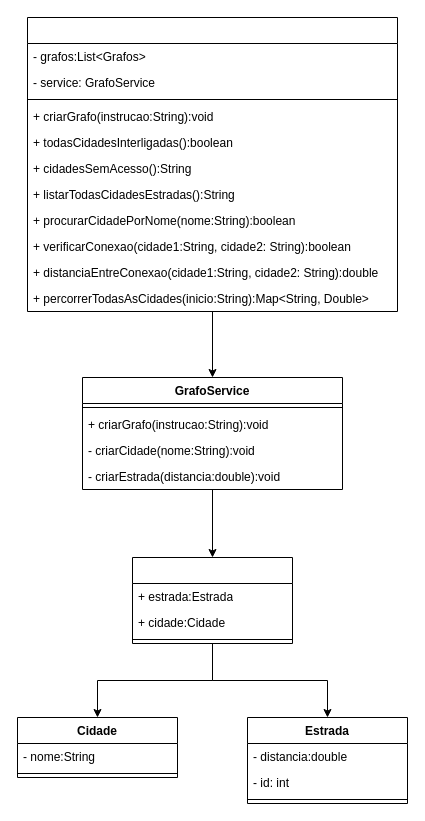
Some shapes in this 425 by 821 pixel diagram are drawn without their labels. Here are the shapes that lost their labels. From the top down, the box of each, then its label:
(26, 16, 398, 312): GrafoController
(132, 556, 292, 644): Grafo
